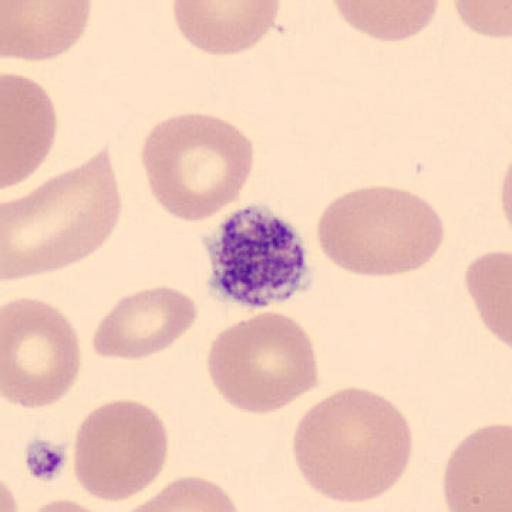Platelet: (202, 204, 316, 309)
RBC: (2, 151, 122, 279), (291, 385, 414, 505), (139, 110, 256, 224), (316, 184, 446, 279), (206, 310, 320, 416), (71, 398, 169, 504), (3, 296, 82, 410), (92, 284, 198, 362), (2, 71, 58, 190), (442, 423, 512, 512), (171, 0, 282, 56), (2, 0, 93, 63), (465, 248, 512, 351), (117, 474, 243, 512), (330, 0, 441, 42), (451, 0, 512, 39), (17, 495, 124, 512), (23, 498, 108, 512), (499, 156, 512, 232), (0, 475, 20, 512)
